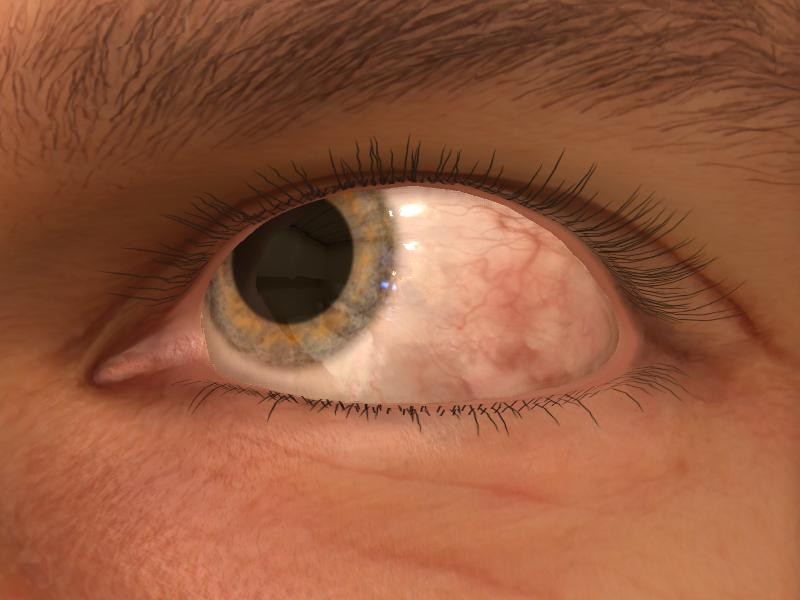eye: (207, 188, 392, 366)
